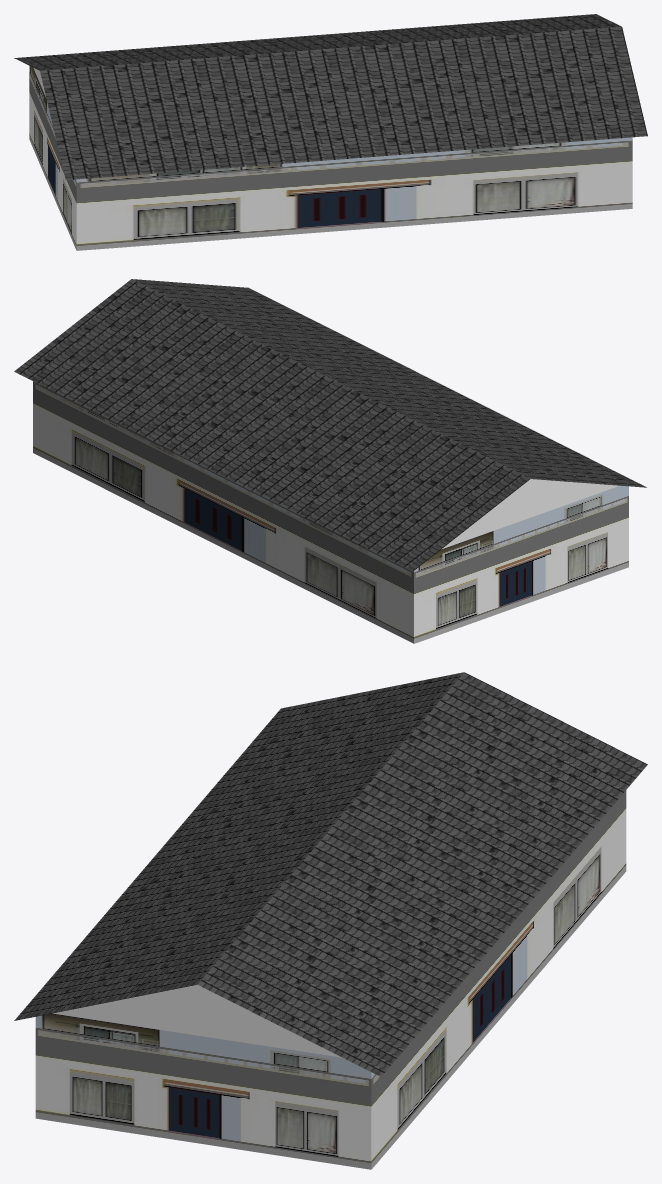
The picture shows the model from 3 angles, top to bottom: view 1: azimuth 30°, elevation 25°; view 2: azimuth 150°, elevation 25°; view 3: azimuth 270°, elevation 25°; orthographic projection. The views are drawn at different scales.
Visible parts, largest first — view 1: CityEngineMaterial_8_m, CityEngineMaterial_7_m; view 2: CityEngineMaterial_8_m, CityEngineMaterial_7_m, CityEngineMaterial_3_m; view 3: CityEngineMaterial_8_m, CityEngineMaterial_7_m, CityEngineMaterial_3_m.
Boxes of the visible parts, x1,y1,x2,y2 form: CityEngineMaterial_8_m: (14,14,647,180); CityEngineMaterial_7_m: (29,66,632,250); CityEngineMaterial_8_m: (14,279,646,571); CityEngineMaterial_7_m: (33,381,628,643); CityEngineMaterial_3_m: (441,479,619,549); CityEngineMaterial_8_m: (14,672,647,1076); CityEngineMaterial_7_m: (35,790,626,1169); CityEngineMaterial_3_m: (52,984,341,1057).
Size of the model in its own units: 49.49 by 10.43 by 35.99.
